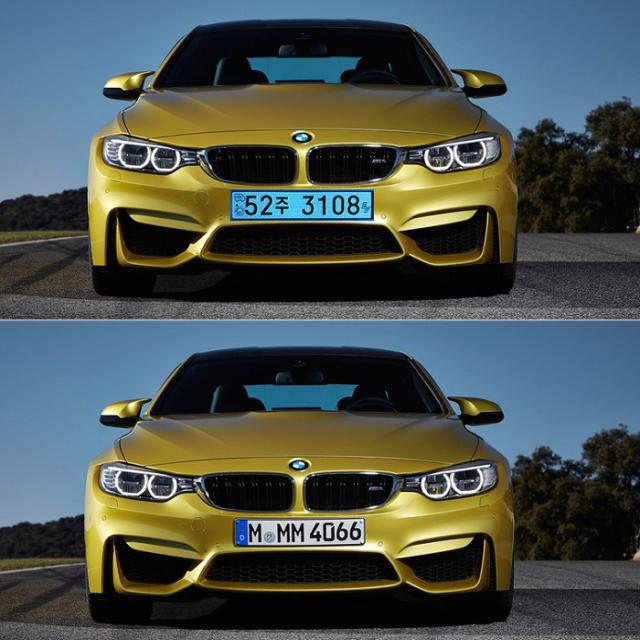EV_plate: (227, 195, 376, 225)
car: (88, 15, 522, 300), (86, 345, 521, 624), (490, 304, 493, 304)
illegal_plate: (231, 518, 367, 550)
